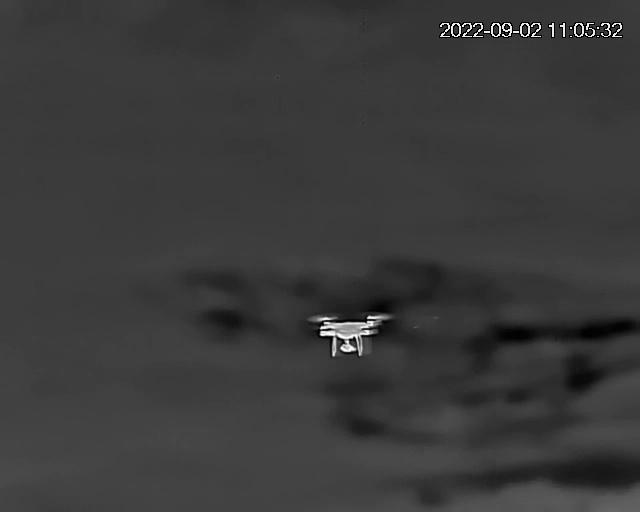DJI-Phantom: (310, 315, 393, 356)
